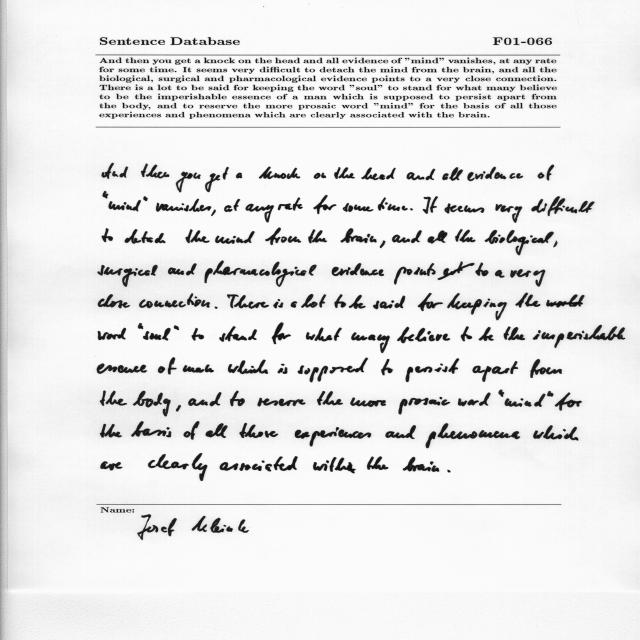word: (204, 261, 317, 287), (426, 423, 520, 448), (533, 325, 625, 348), (394, 262, 474, 285), (298, 358, 368, 383), (485, 230, 554, 255), (148, 453, 207, 481), (447, 293, 507, 320), (295, 427, 371, 447), (98, 265, 158, 287), (531, 196, 595, 216), (406, 358, 459, 382), (220, 456, 298, 471), (139, 294, 210, 309), (516, 293, 585, 308), (133, 391, 171, 417), (473, 361, 519, 382), (102, 163, 128, 199), (398, 397, 450, 414), (397, 327, 450, 343), (351, 332, 390, 353), (467, 167, 523, 181), (533, 425, 579, 441), (156, 199, 211, 212), (313, 457, 356, 473), (332, 263, 384, 276), (131, 422, 172, 438), (510, 269, 546, 287), (227, 294, 269, 309), (125, 229, 166, 244), (265, 228, 301, 245), (219, 326, 257, 342), (530, 359, 562, 378), (205, 167, 229, 192), (228, 360, 268, 375), (240, 423, 279, 438), (505, 393, 546, 407), (245, 204, 274, 223), (97, 363, 147, 374), (341, 228, 377, 243), (403, 457, 439, 472), (259, 166, 300, 179), (176, 172, 201, 193), (215, 231, 255, 244), (496, 204, 523, 223), (306, 328, 342, 342), (555, 393, 582, 411), (98, 294, 130, 309), (188, 392, 222, 406), (458, 393, 491, 407), (361, 167, 396, 180), (418, 293, 443, 311), (257, 398, 306, 407), (445, 203, 485, 214), (314, 195, 337, 214), (385, 425, 416, 439), (100, 390, 127, 406), (141, 164, 169, 179), (378, 197, 408, 211), (373, 296, 405, 309), (272, 323, 291, 344), (392, 230, 422, 243), (168, 263, 197, 276), (143, 328, 171, 341), (317, 391, 343, 405), (350, 397, 386, 407), (278, 197, 303, 211), (185, 230, 210, 244), (301, 294, 326, 308), (98, 328, 126, 340), (206, 423, 228, 438), (407, 169, 435, 180), (100, 424, 122, 438), (184, 421, 200, 440), (442, 167, 463, 181), (504, 327, 525, 341), (367, 456, 388, 470), (343, 203, 374, 212), (183, 364, 214, 373), (455, 229, 476, 242), (538, 165, 555, 181), (423, 196, 438, 214), (308, 230, 327, 244), (428, 231, 448, 244), (334, 167, 355, 179), (349, 295, 366, 309), (230, 391, 245, 406), (479, 327, 494, 341), (224, 199, 240, 212), (381, 359, 393, 375), (101, 462, 122, 471), (476, 263, 489, 276), (335, 294, 347, 308), (126, 200, 141, 211), (461, 326, 472, 341), (109, 201, 127, 210), (192, 328, 204, 341), (102, 229, 113, 243), (168, 358, 177, 375), (278, 364, 288, 374), (273, 299, 283, 308), (314, 172, 326, 179), (495, 270, 505, 278), (158, 366, 165, 373), (291, 301, 297, 308), (547, 391, 554, 397), (380, 240, 385, 248), (236, 173, 242, 179), (553, 241, 558, 248), (176, 405, 181, 412), (499, 390, 504, 397), (211, 210, 216, 216), (138, 323, 143, 329), (143, 197, 148, 202), (174, 325, 179, 330), (410, 209, 413, 211), (215, 307, 218, 309), (448, 470, 451, 472)
